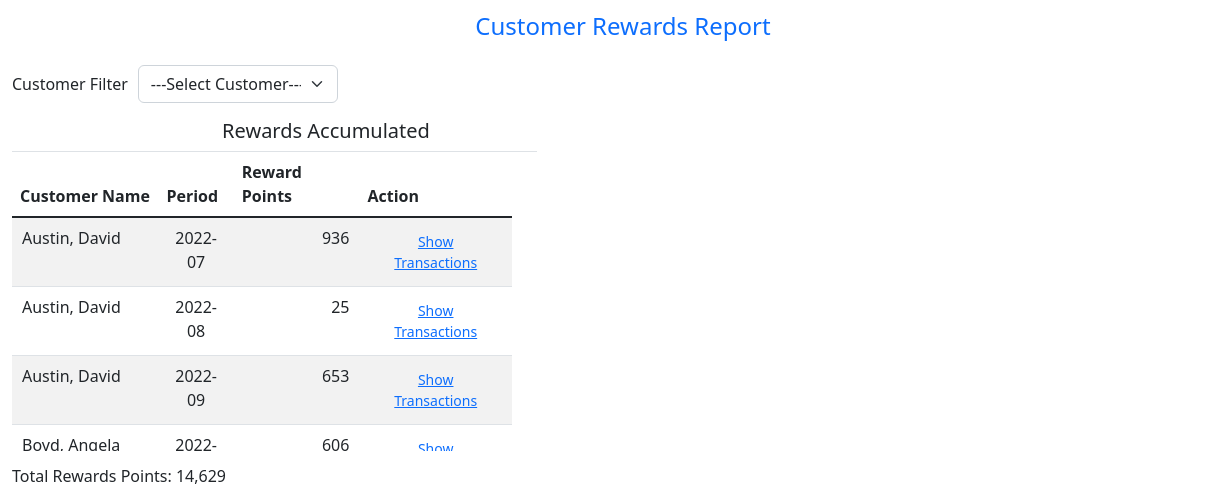
Test: Rewards › Rewards Component should populate Transactions on the event of click Show Transaction
This screenshot has width=1206, height=503.
Expected: the heading "Rewards Accumulated" is shown, 222,117 -> 430,144
# Simulate Show Transaction Click
Click the button with test id "show_transaction_button" next to "936" at [436, 252], box 367,226 -> 504,278
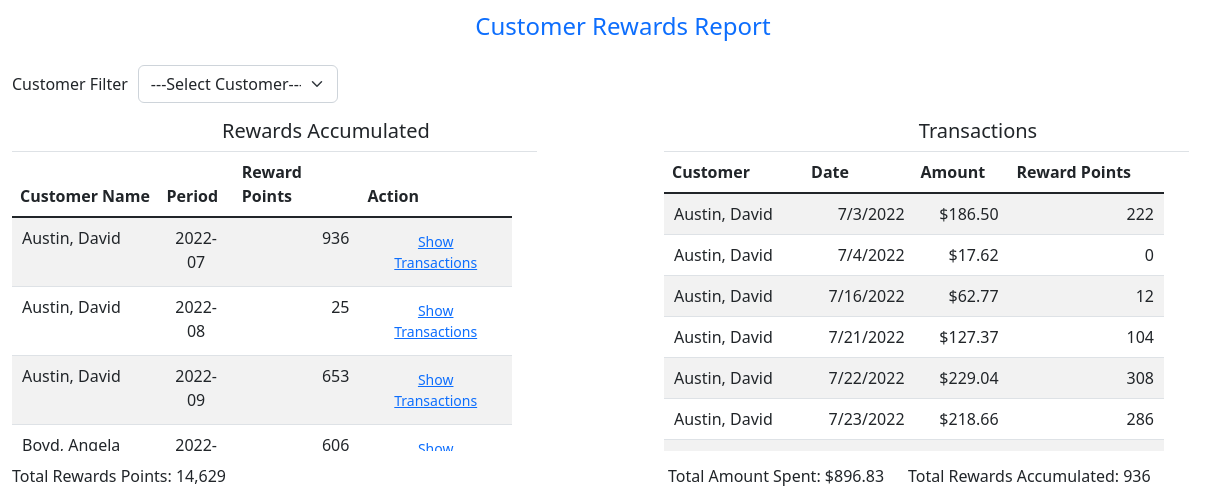
Expected: the heading "Rewards Accumulated" is shown, 222,117 -> 430,144
Expected: the heading "Transactions" is shown, 919,117 -> 1037,144
